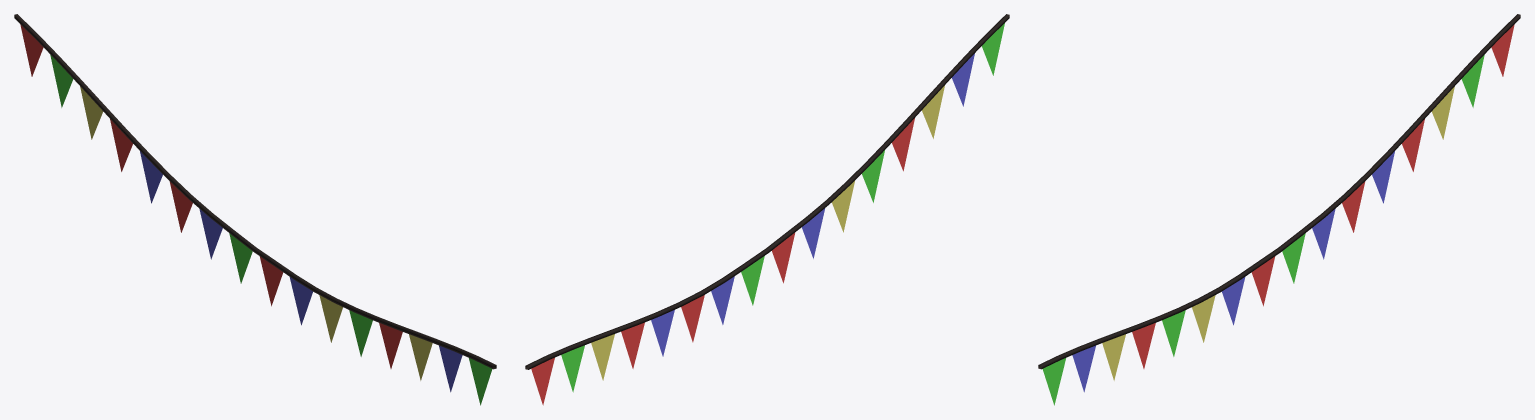
File: party_flags.fbx
3 views of the same model, side by side, from view 1: azimuth 30°, elevation 25°; view 2: azimuth 150°, elevation 25°; view 3: azimuth 330°, elevation 25° (orthographic).
Visible parts, largest first — view 1: Plane; view 2: Plane; view 3: Plane.
Part boxes in pixels (left/top/right/bottom): Plane: left=14, top=14, right=496, bottom=405; Plane: left=525, top=14, right=1009, bottom=405; Plane: left=1038, top=14, right=1520, bottom=405.
Bounding box in the file's own units: 4.56 × 146 × 1207.
